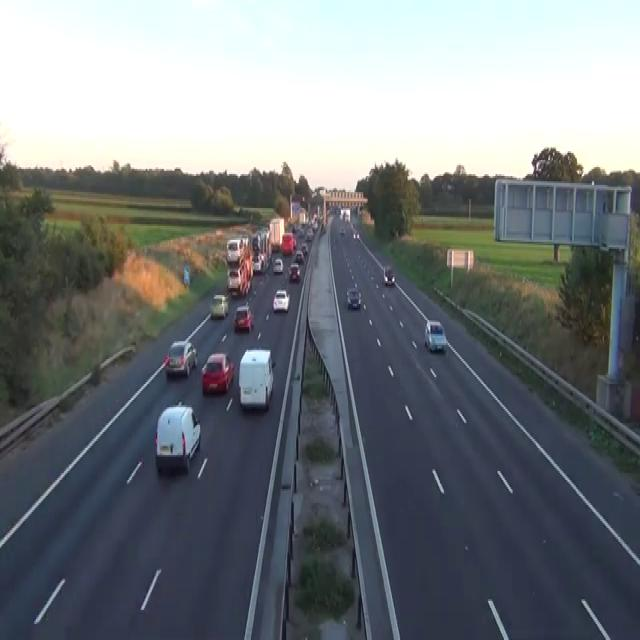Car: (155, 402, 201, 473), (201, 352, 234, 395), (163, 339, 197, 377), (424, 318, 447, 352), (233, 304, 253, 331), (209, 294, 228, 318), (272, 288, 290, 311), (226, 267, 241, 293), (345, 286, 361, 310), (383, 265, 395, 286), (288, 263, 300, 283), (252, 254, 263, 274), (272, 256, 283, 274), (350, 222, 358, 238), (240, 235, 249, 249), (295, 251, 304, 263), (301, 242, 308, 254), (306, 229, 313, 240), (446, 182, 454, 190), (321, 222, 326, 233), (292, 236, 296, 249), (339, 226, 345, 234), (352, 231, 356, 238), (356, 231, 359, 238)
Truck: (238, 348, 273, 411), (268, 217, 284, 251)
